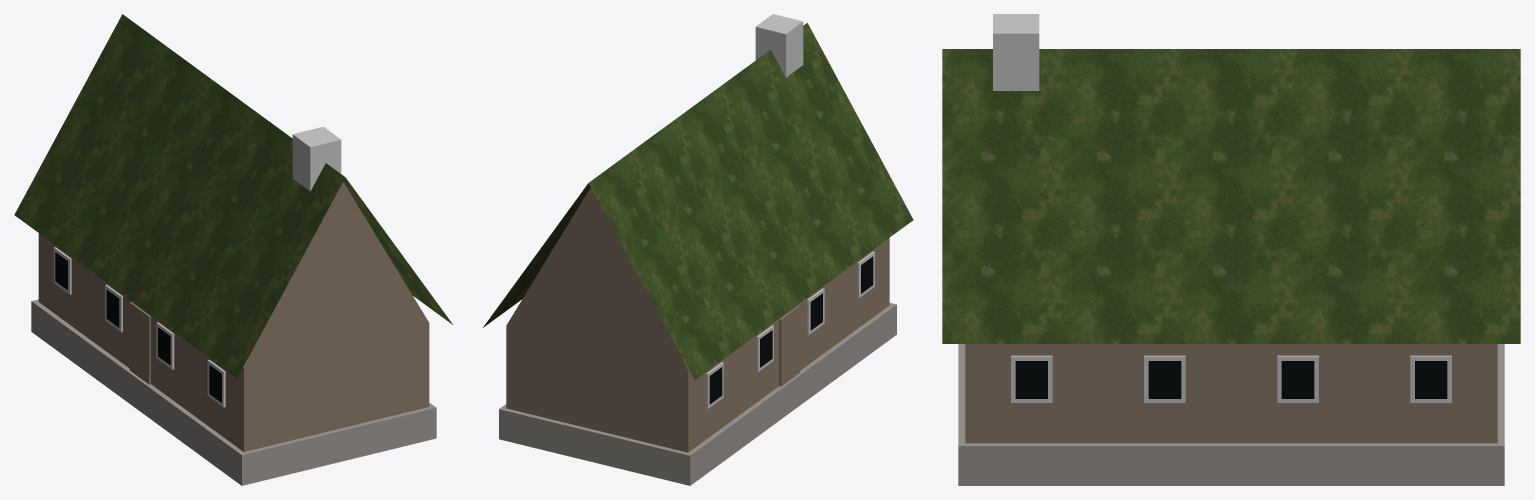
File: SM_Art_Settlement_Nordic_1.gltf
The picture shows the model from 3 angles, left to right: view 1: azimuth 30°, elevation 25°; view 2: azimuth 150°, elevation 25°; view 3: azimuth 270°, elevation 25°; orthographic projection. The views are drawn at different scales.
Parts seen in each view (by area): view 1: SM_Art_Settlement_Nordic_1; view 2: SM_Art_Settlement_Nordic_1; view 3: SM_Art_Settlement_Nordic_1.
Part boxes in pixels (box(x1,y1,x2,y2)): SM_Art_Settlement_Nordic_1: box(14, 14, 452, 485); SM_Art_Settlement_Nordic_1: box(483, 14, 913, 485); SM_Art_Settlement_Nordic_1: box(942, 14, 1520, 485).
Size of the model in its own units: 7 by 9.55 by 12.5.
